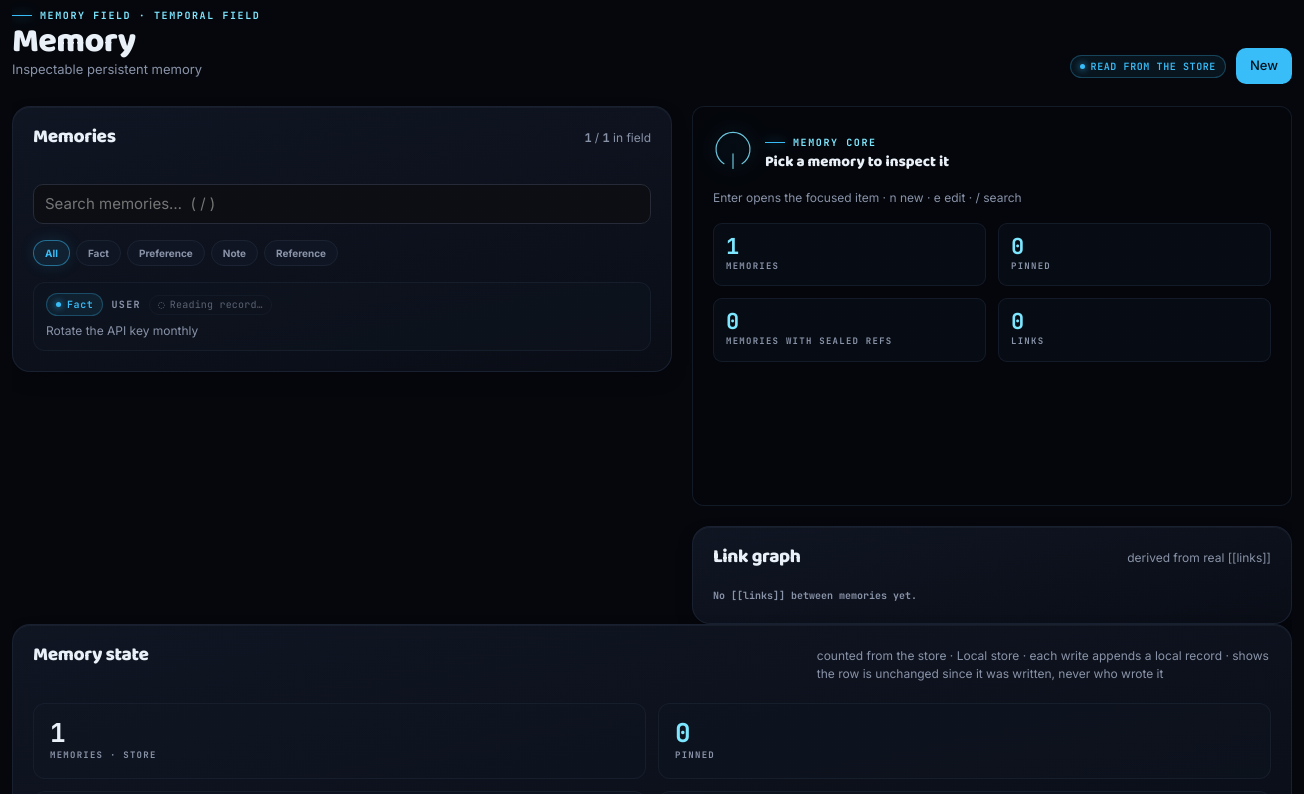
it: Memory — a REFUSED pin change is surfaced, never swallowed › states that the pin state did not change
Click the text "Rotate the API key monthly": (122, 331) [46, 322, 198, 340]
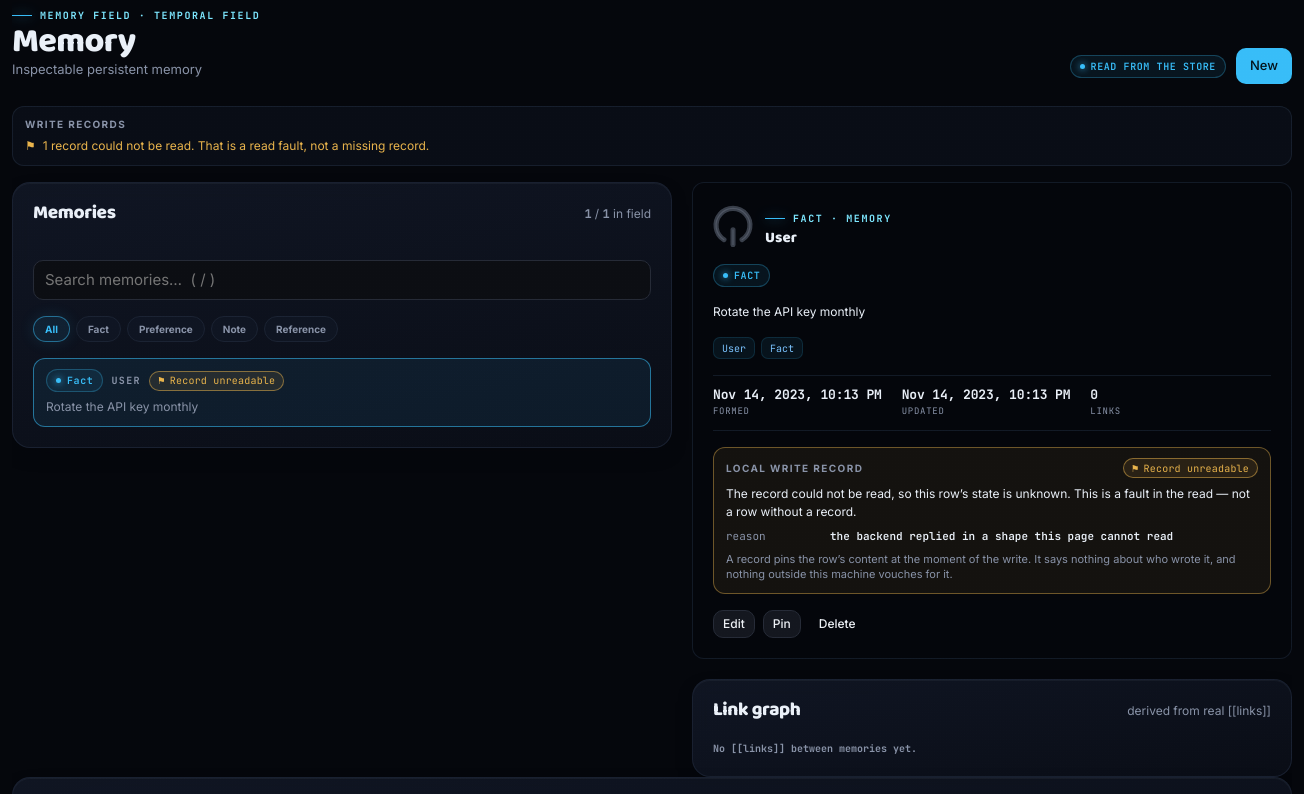
Now the button "Delete" is shown, box [809, 610, 866, 638]
Click the button "Pin": (782, 624) [763, 610, 801, 638]
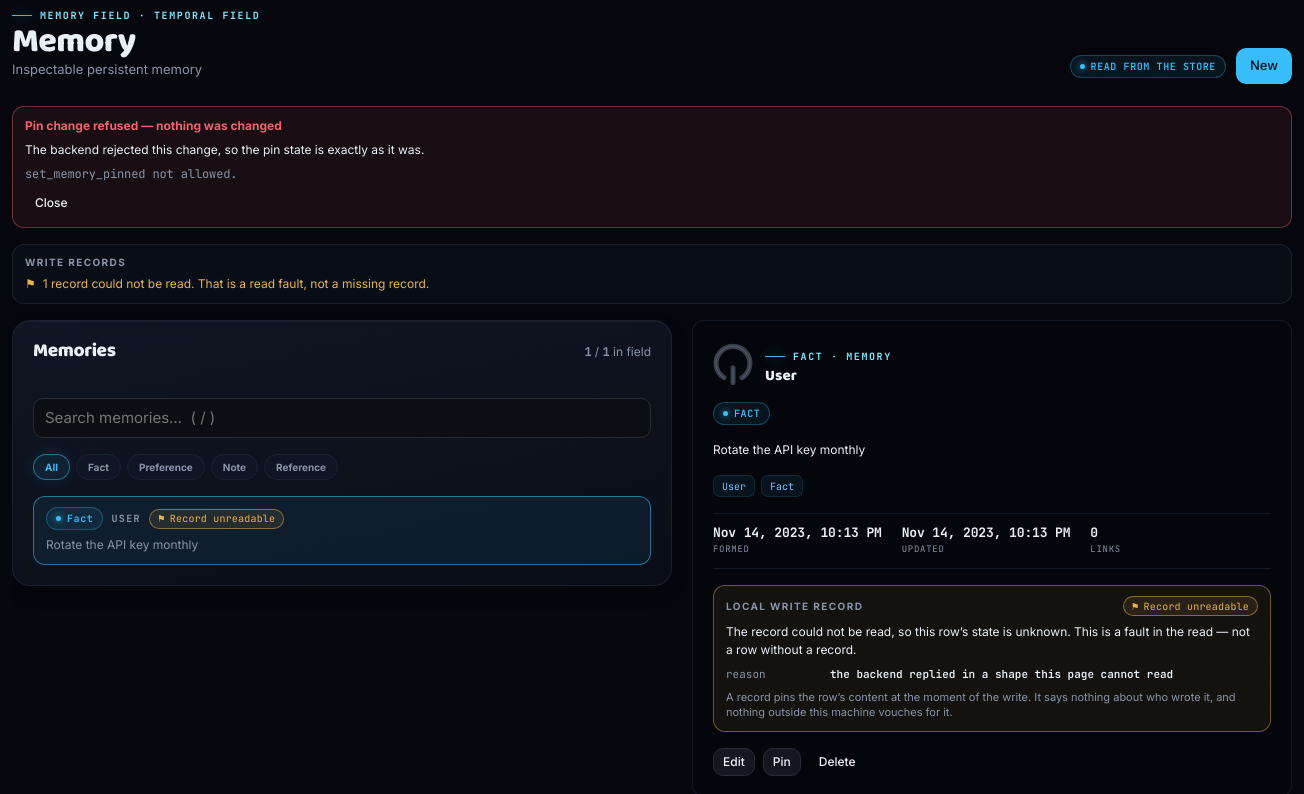
Now the message that starts with "Pin change refused — nothing was changed" is shown, box [25, 118, 282, 133]
Now the message that starts with "Pin change refused — nothing was changed" shows "set_memory_pinned not allowed", box [25, 166, 237, 182]
